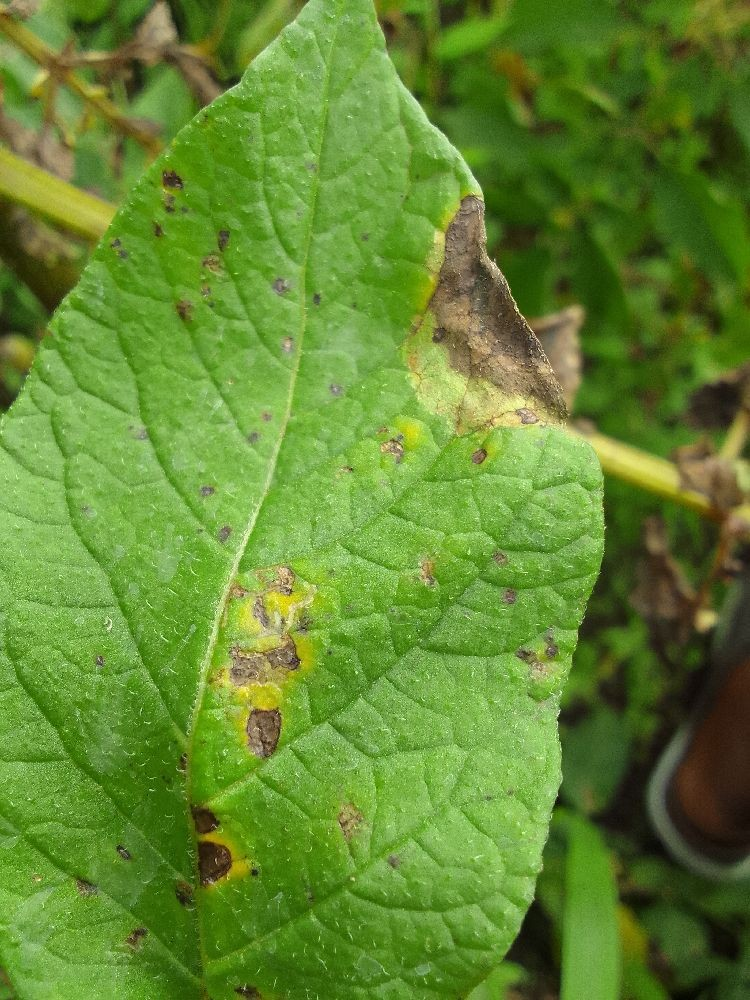late_blight: (500, 281, 750, 1000), (409, 179, 616, 481), (0, 0, 260, 209), (0, 177, 111, 329)
